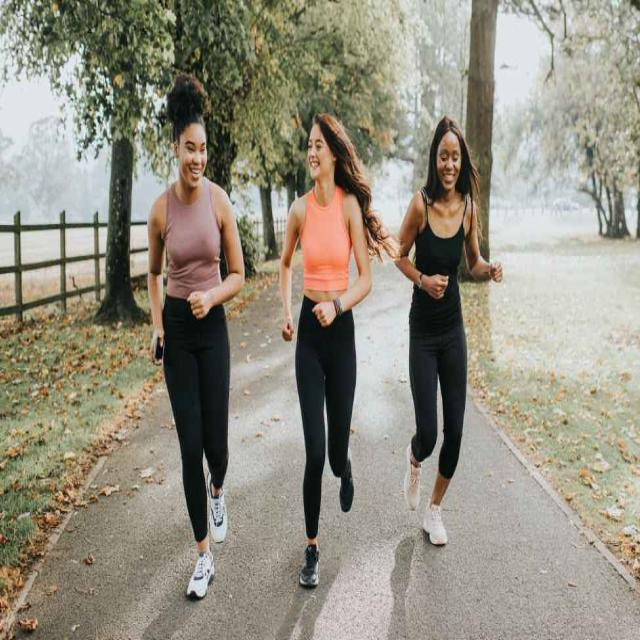Person: (280, 114, 396, 589), (147, 75, 246, 601)
